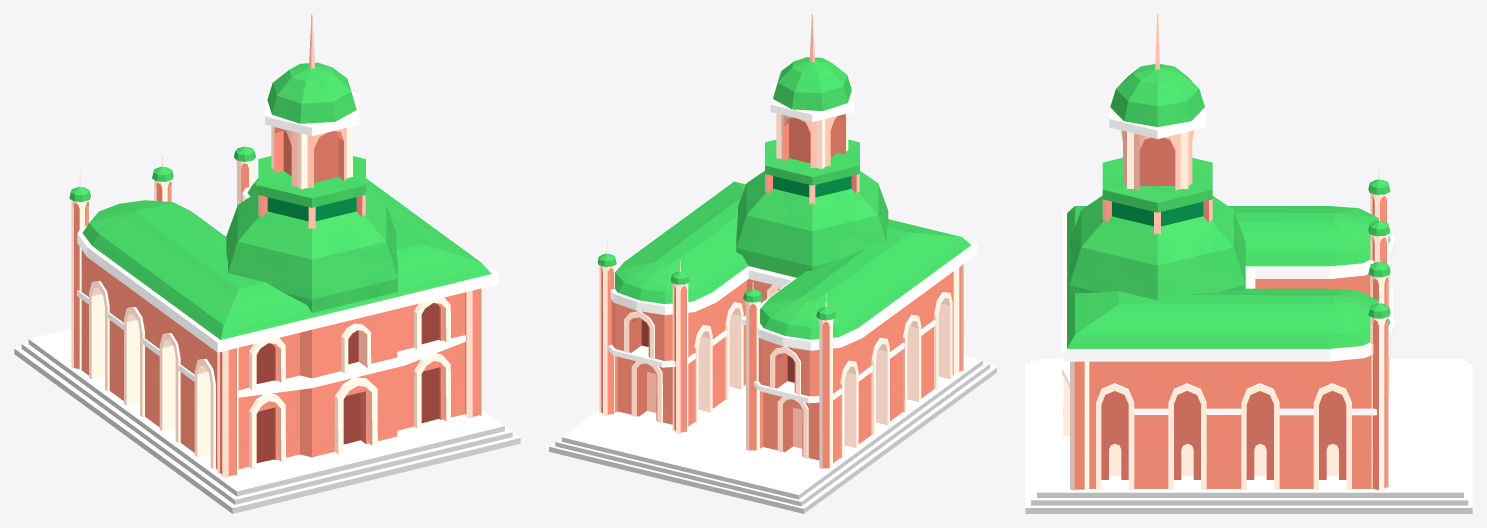
Rendered from temple.007.glb.
3 renders of one model, left to right at view 1: azimuth 30°, elevation 25°; view 2: azimuth 150°, elevation 25°; view 3: azimuth 270°, elevation 25°, orthographic. The views are drawn at different scales.
Visible parts, largest first — view 1: temple.007(Clone); view 2: temple.007(Clone); view 3: temple.007(Clone).
Part boxes in pixels (x1=…): temple.007(Clone): x1=14, y1=14, x2=520, y2=513; temple.007(Clone): x1=549, y1=14, x2=996, y2=513; temple.007(Clone): x1=1025, y1=14, x2=1472, y2=513.
Size of the model in its own units: 15.72 by 21.76 by 20.63.
1 material, 1 textured.
